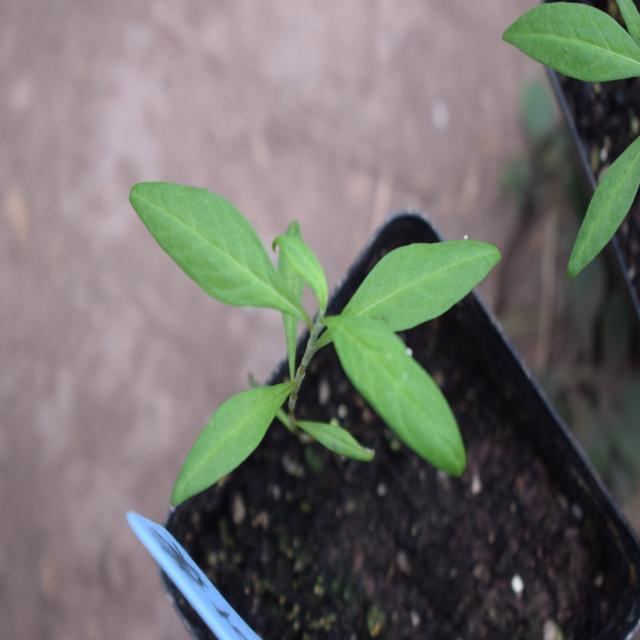white_smart_weed: (124, 164, 494, 520)
